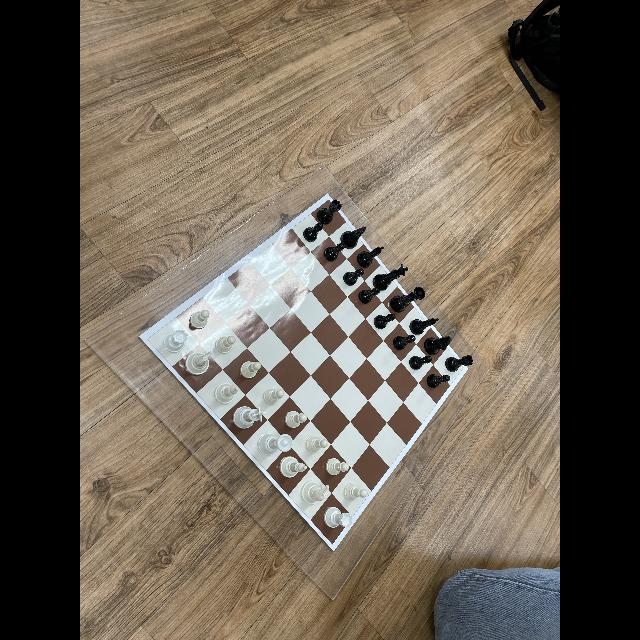chessboard-corner: (136, 332, 144, 342), (329, 544, 337, 554), (465, 362, 471, 372), (325, 190, 331, 198)
